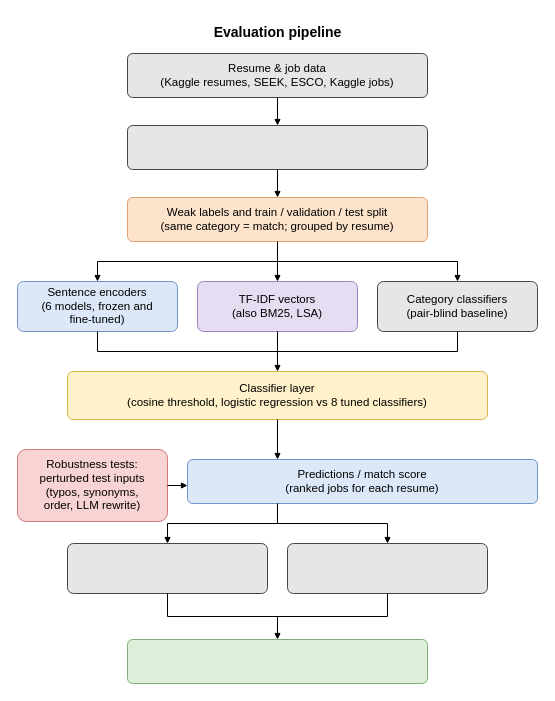
Image size: 555x701. Some labels were removed from this diagram. Here are the shapes that lost their labels. From the top down, the centre of each, then its label:
At point (277, 147): "Data preprocessing (de-duplication, e-mail / phone / URL removal)".
At point (167, 568): "Metrics: accuracy, AUC, Hit@1, MRR, nDCG@10".
At point (387, 568): "Statistics: resume-level bootstrap, Holm, Friedman".
At point (277, 661): "External checks: 240 human-scored pairs, TalentCLEF transfer".
